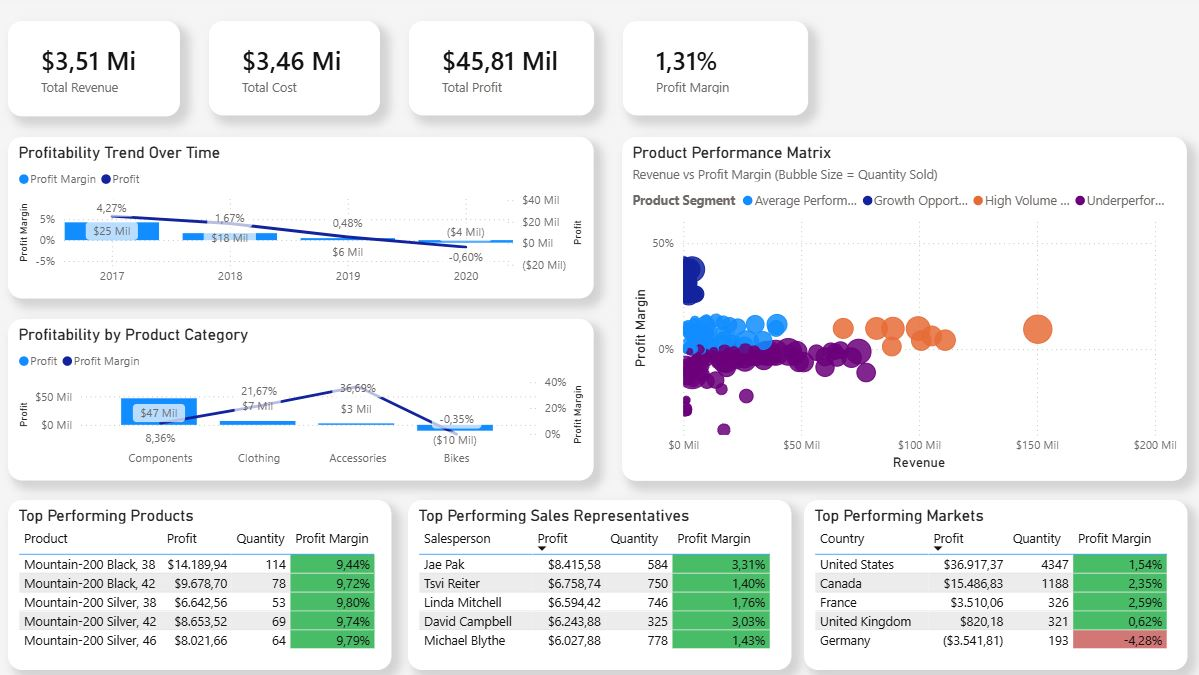

Layout of this report page (visuals, bound fields, positions):
{"tool":"powerbi","page":{"name":"Executive Overview","canvas":[1280,720],"ordinal":0},"visuals":[{"type":"lineStackedColumnComboChart","title":"Profitability Trend Over Time","fields":{"Category":["Sales.OrderDate.Variation.Date Hierarchy.Year"],"Y":["Key Measures.Profit Margin"],"Y2":["Key Measures.Profit"]},"box":[12.6,149.8,619.6,171.2],"z":0},{"type":"cardVisual","fields":{"Data":["Key Measures.Revenue"]},"box":[12.7,26.5,182.1,100.6],"z":1000},{"type":"tableEx","title":"Top Performing Products","fields":{"Values":["Products.Product","Key Measures.Profit","Sales.Quantity","Key Measures.Profit Margin"]},"box":[12.6,534,405.6,179.9],"z":2000},{"type":"tableEx","title":"Top Performing Sales Representatives","fields":{"Values":["Salesperson.Salesperson","Key Measures.Profit","Sales.Quantity","Key Measures.Profit Margin"]},"box":[435.7,534,405.6,179.9],"z":3000},{"type":"tableEx","title":"Top Performing Markets","fields":{"Values":["Region.Country","Key Measures.Profit","Sales.Quantity","Key Measures.Profit Margin"]},"box":[855,534,405.6,179.9],"z":4000},{"type":"lineStackedColumnComboChart","title":"Profitability by Product Category","fields":{"Y":["Key Measures.Profit"],"Category":["Products.Category"],"Y2":["Key Measures.Profit Margin"]},"box":[12.6,342.4,619.6,171.2],"z":5000},{"type":"scatterChart","title":"Product Performance Matrix","fields":{"X":["Key Measures.Revenue"],"Size":["Sales.Quantity"],"Y":["Key Measures.Profit Margin"],"Category":["Products.Product"],"Series":["Products.Product Segment"]},"box":[662.4,149.8,598.2,363.8],"z":6000},{"type":"cardVisual","fields":{"Data":["Sales.Cost"]},"box":[225.1,26.5,180.9,100.2],"z":7000},{"type":"cardVisual","fields":{"Data":["Key Measures.Profit"]},"box":[437.1,26.5,196.5,100.2],"z":8000},{"type":"cardVisual","fields":{"Data":["Key Measures.Profit Margin"]},"box":[663.8,26.5,196.5,100.2],"z":9000}]}

Visuals, with their boxes in screenshot pixels (x1, y1, x2, y2), scaled from the page's 1280x720 canvas onto the 1199x675 screenshot:
"Profitability Trend Over Time" lineStackedColumnComboChart: bbox(12, 140, 592, 301)
cardVisual - Key Measures.Revenue: bbox(12, 25, 182, 119)
"Top Performing Products" tableEx: bbox(12, 501, 392, 669)
"Top Performing Sales Representatives" tableEx: bbox(408, 501, 788, 669)
"Top Performing Markets" tableEx: bbox(801, 501, 1181, 669)
"Profitability by Product Category" lineStackedColumnComboChart: bbox(12, 321, 592, 481)
"Product Performance Matrix" scatterChart: bbox(620, 140, 1181, 482)
cardVisual - Sales.Cost: bbox(211, 25, 380, 119)
cardVisual - Key Measures.Profit: bbox(409, 25, 594, 119)
cardVisual - Key Measures.Profit Margin: bbox(622, 25, 806, 119)
